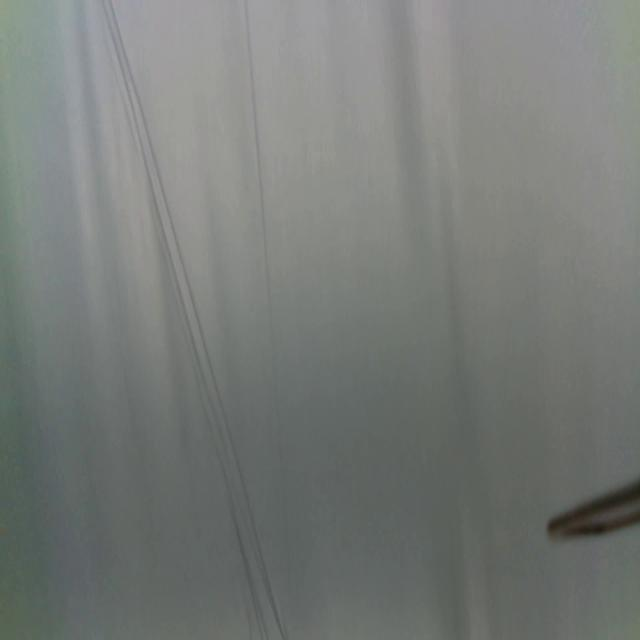crease: (102, 0, 285, 640), (244, 1, 286, 493)
